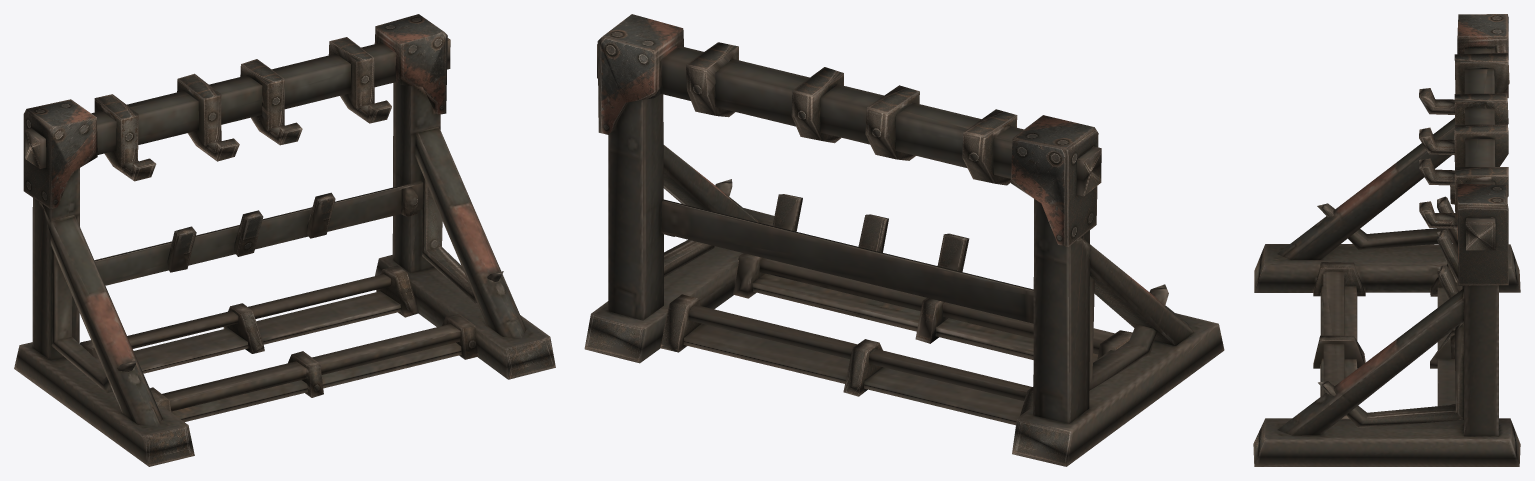
Rendered from Raider Weapon Rack.glb.
3 renders of one model, left to right at view 1: azimuth 30°, elevation 25°; view 2: azimuth 150°, elevation 25°; view 3: azimuth 270°, elevation 25°, orthographic. The views are drawn at different scales.
Bounding box in the file's own units: 2 × 1.22 × 1.14.
Materials: 1 (1 with a texture image).
